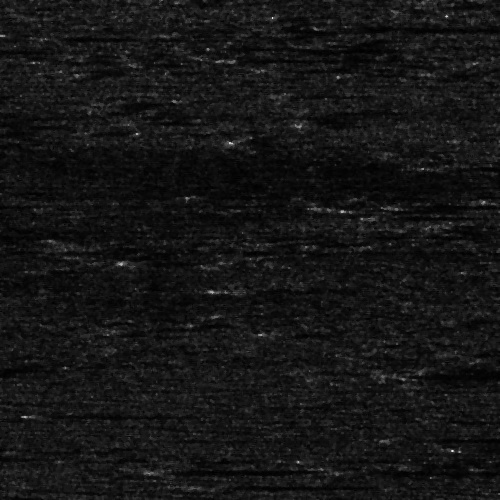object: (186, 285, 259, 292), (414, 164, 477, 169), (376, 202, 417, 207)
shadow: (222, 285, 328, 292), (397, 202, 500, 207), (445, 164, 500, 169)
